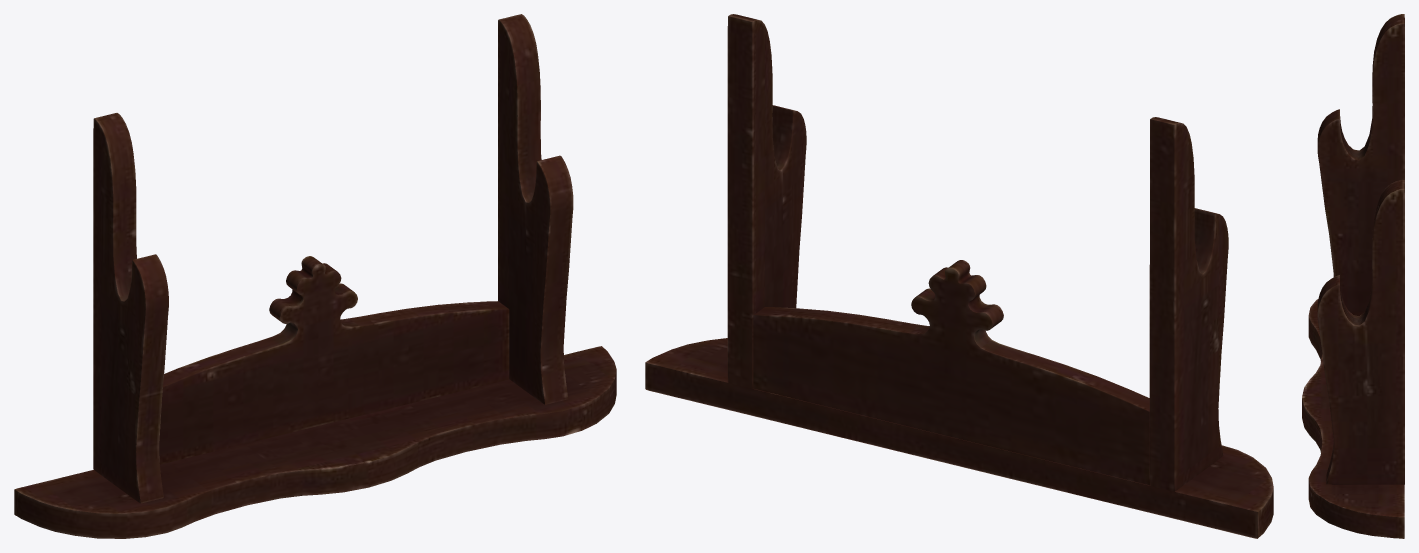
File: katana_stand_01.gltf
3 renders of one model, left to right at view 1: azimuth 30°, elevation 25°; view 2: azimuth 150°, elevation 25°; view 3: azimuth 270°, elevation 25°, orthographic. The views are drawn at different scales.
Parts seen in each view (by area): view 1: katana_stand_01; view 2: katana_stand_01; view 3: katana_stand_01.
Part boxes in pixels (x1,y1,x2,y2): katana_stand_01: (14, 14, 616, 538); katana_stand_01: (645, 14, 1273, 538); katana_stand_01: (1302, 14, 1404, 538).
Size of the model in its own units: 0.2958 by 0.1819 by 0.0535.
1 material, 1 textured.
